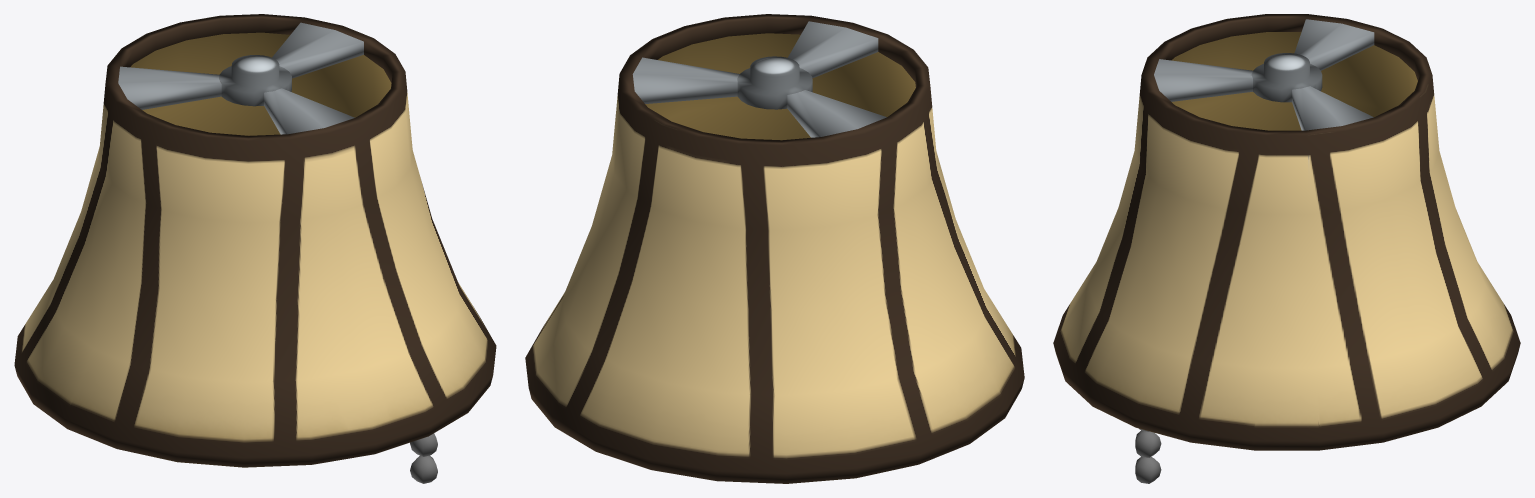
File: CU_LampHat.fbx
The picture shows the model from 3 angles, left to right: view 1: azimuth 30°, elevation 25°; view 2: azimuth 150°, elevation 25°; view 3: azimuth 270°, elevation 25°; orthographic projection. The views are drawn at different scales.
Parts seen in each view (by area): view 1: Lampshade, LampString; view 2: Lampshade; view 3: Lampshade, LampString.
Part boxes in pixels (x1,y1,x2,y2): Lampshade: (14,14,496,467); LampString: (410,433,437,483); Lampshade: (525,14,1024,483); Lampshade: (1053,14,1520,450); LampString: (1135,428,1161,483).
Bounding box in the file's own units: 193 × 173 × 195.
